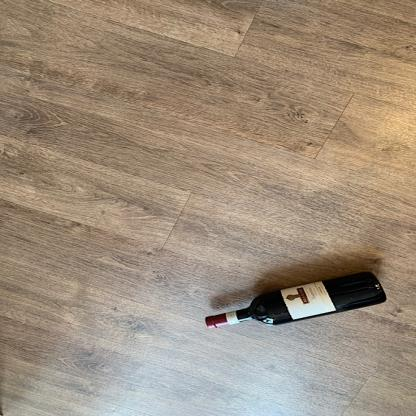trash: (204, 269, 389, 332)
